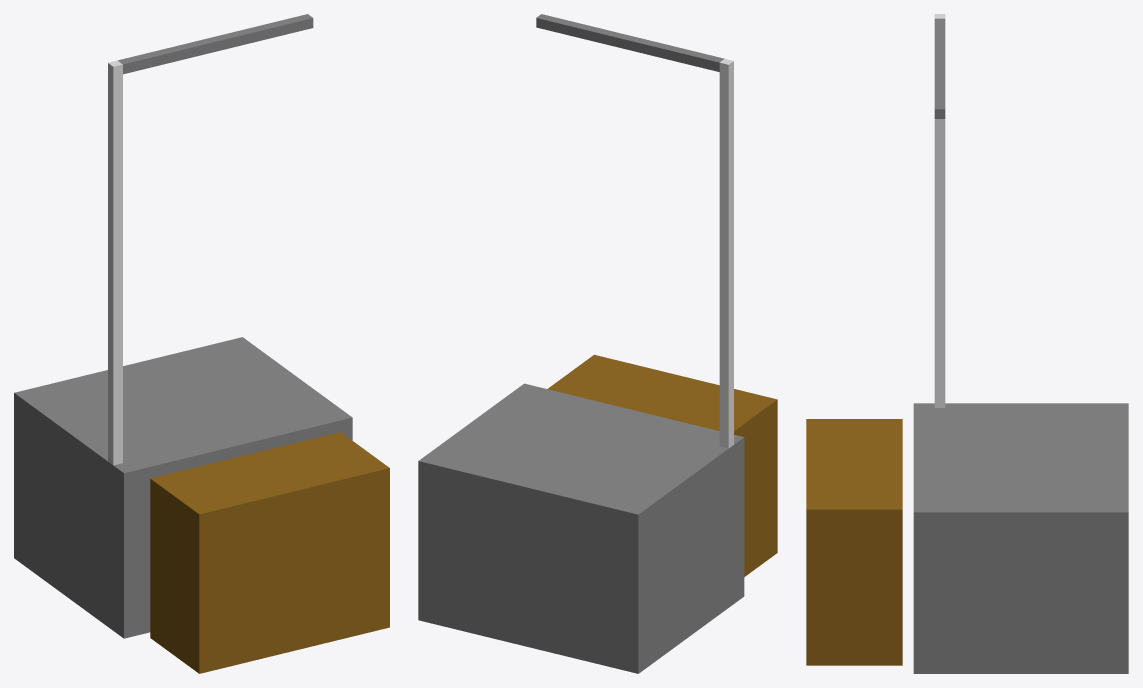
Rendered from table.dae.
3 renders of one model, left to right at view 1: azimuth 30°, elevation 25°; view 2: azimuth 150°, elevation 25°; view 3: azimuth 270°, elevation 25°, orthographic. The views are drawn at different scales.
Parts seen in each view (by area): view 1: Cube, soil_bed, beam; view 2: Cube, soil_bed, beam; view 3: Cube, soil_bed, beam.
Part boxes in pixels (left/top/right/bottom): Cube: left=14, top=337, right=352, bottom=638; soil_bed: left=150, top=432, right=389, bottom=673; beam: left=108, top=14, right=313, bottom=465; Cube: left=418, top=383, right=744, bottom=673; soil_bed: left=547, top=354, right=777, bottom=576; beam: left=536, top=14, right=733, bottom=448; Cube: left=913, top=403, right=1128, bottom=673; soil_bed: left=806, top=419, right=902, bottom=665; beam: left=934, top=14, right=945, bottom=407.
Bounding box in the file's own units: 1.2 × 1.5 × 2.83.
